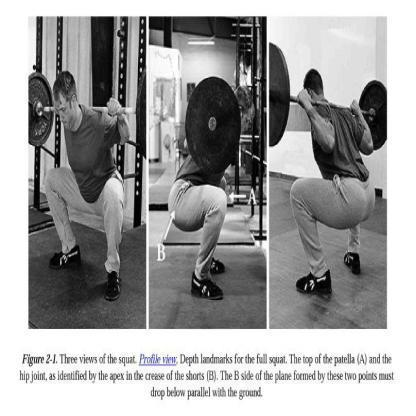barbell: (185, 76, 241, 174), (30, 73, 54, 150)
